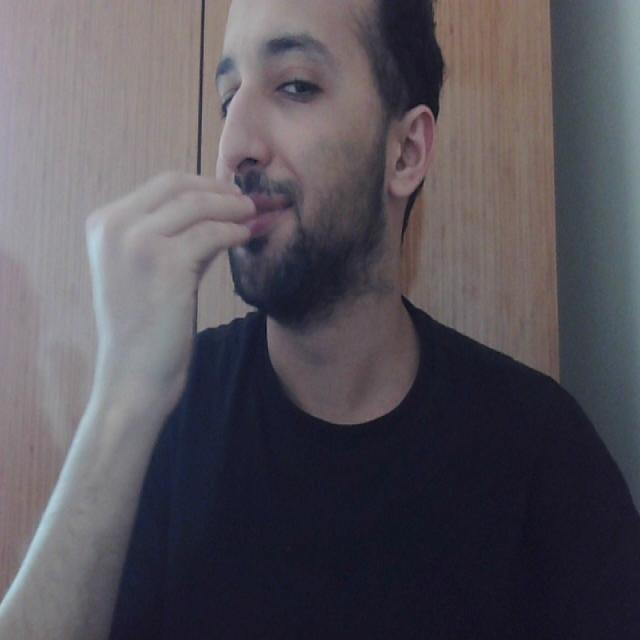Yemek: (79, 170, 275, 274)
